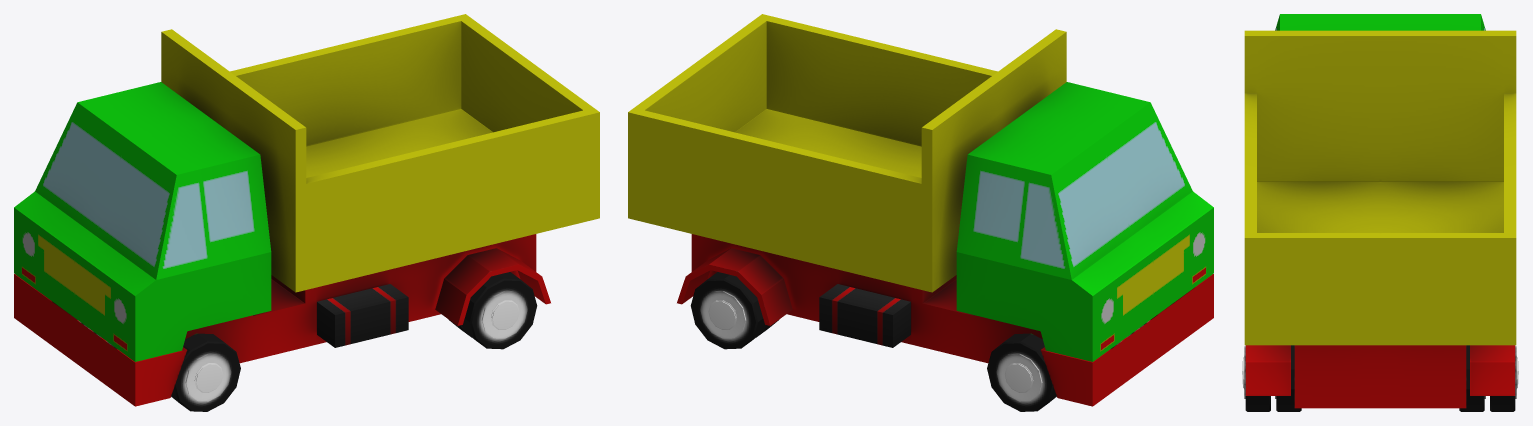
Rendered from mobil_truk.fbx.
The picture shows the model from 3 angles, left to right: view 1: azimuth 30°, elevation 25°; view 2: azimuth 150°, elevation 25°; view 3: azimuth 270°, elevation 25°; orthographic projection.
Visible parts, largest first — view 1: truk; view 2: truk; view 3: truk.
Boxes of the visible parts, bbox=[...] form: truk: bbox=[14, 14, 599, 411]; truk: bbox=[628, 14, 1213, 411]; truk: bbox=[1242, 14, 1518, 411].
Size of the model in its own units: 43.67 by 24.7 by 22.53.
